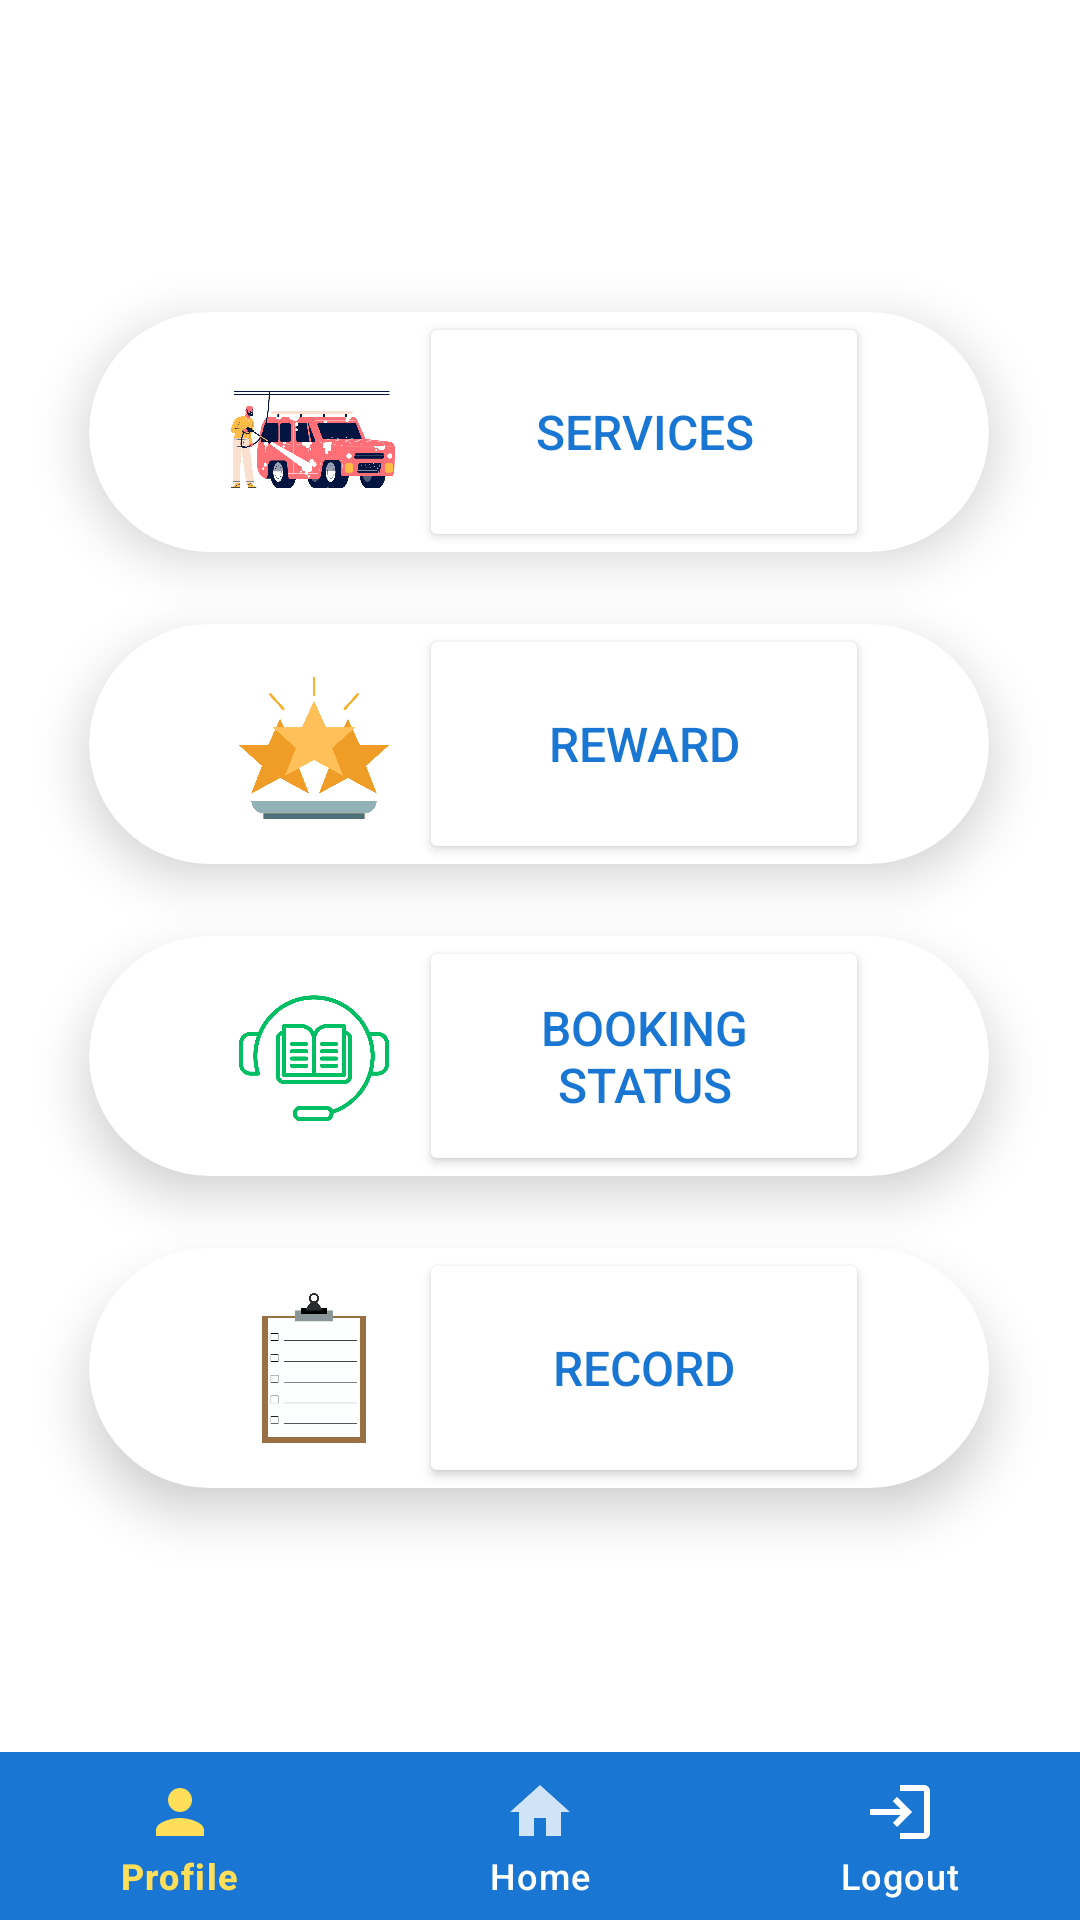

Point at icon controls on the screen. Image size 1080px×1920px, points as [x,y].
bookstatus: [314,1058]
